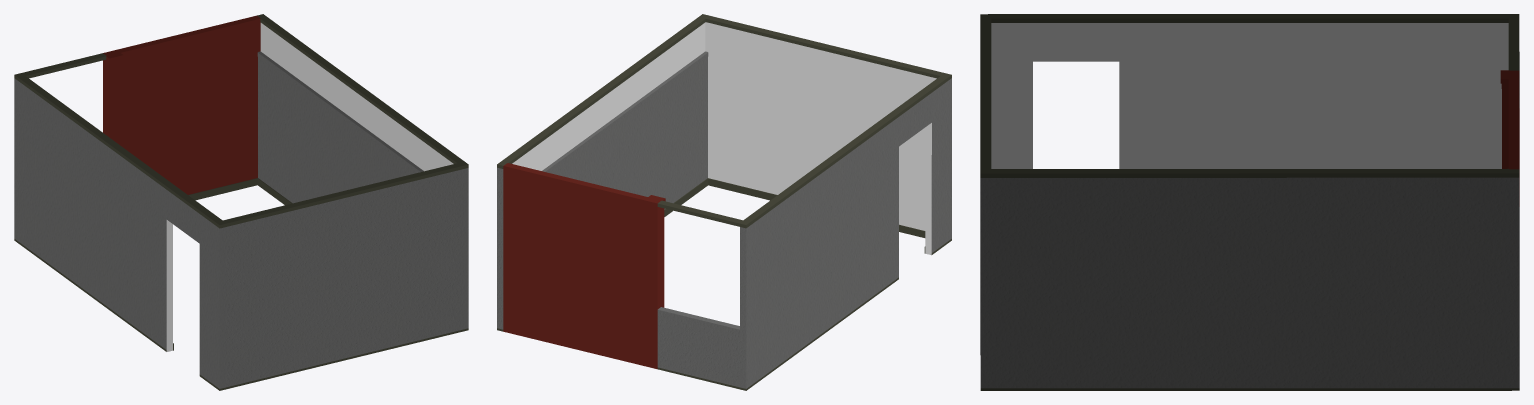
The model's file is FP318:StandardWallSize_015_35c36840.obj.
3 views of the same model, side by side, from view 1: azimuth 30°, elevation 25°; view 2: azimuth 150°, elevation 25°; view 3: azimuth 270°, elevation 25° (orthographic). The views are drawn at different scales.
Visible parts, largest first — view 1: FP318:StandardWallSize.015_35c36840; view 2: FP318:StandardWallSize.015_35c36840; view 3: FP318:StandardWallSize.015_35c36840.
Boxes of the visible parts, x1,y1,x2,y2 form: FP318:StandardWallSize.015_35c36840: (14,14,468,390); FP318:StandardWallSize.015_35c36840: (497,14,951,390); FP318:StandardWallSize.015_35c36840: (980,14,1519,390).
Bounding box in the file's own units: 3.93 × 2.5 × 5.62.
